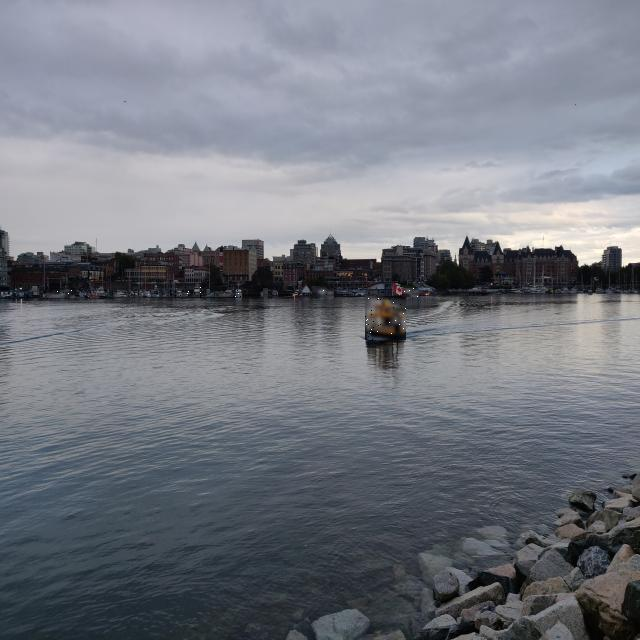aircraft: (312, 286, 334, 298), (402, 288, 419, 297)
boat: (365, 296, 406, 340), (48, 288, 75, 298), (175, 287, 189, 297), (194, 283, 201, 298), (235, 289, 242, 297), (263, 288, 268, 297)
